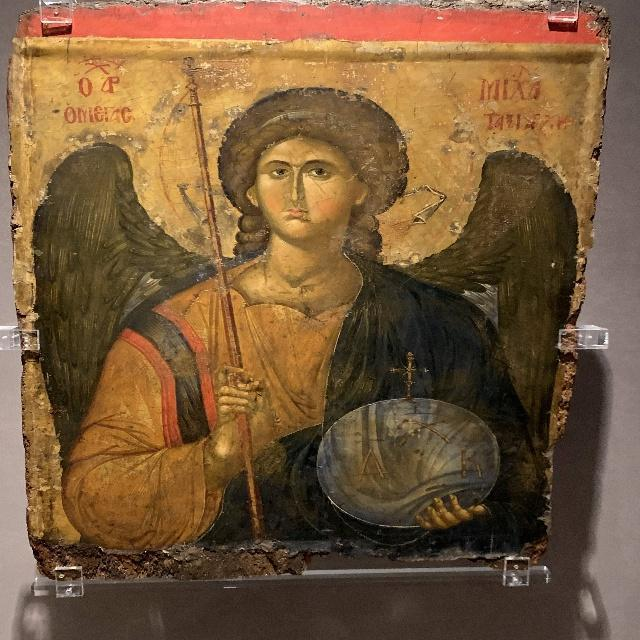archangel_michael: (33, 36, 552, 543)
aura: (163, 40, 476, 256)
scepter: (160, 53, 274, 548)
shield: (321, 350, 512, 535)
wing: (31, 139, 220, 432), (398, 133, 571, 438)
